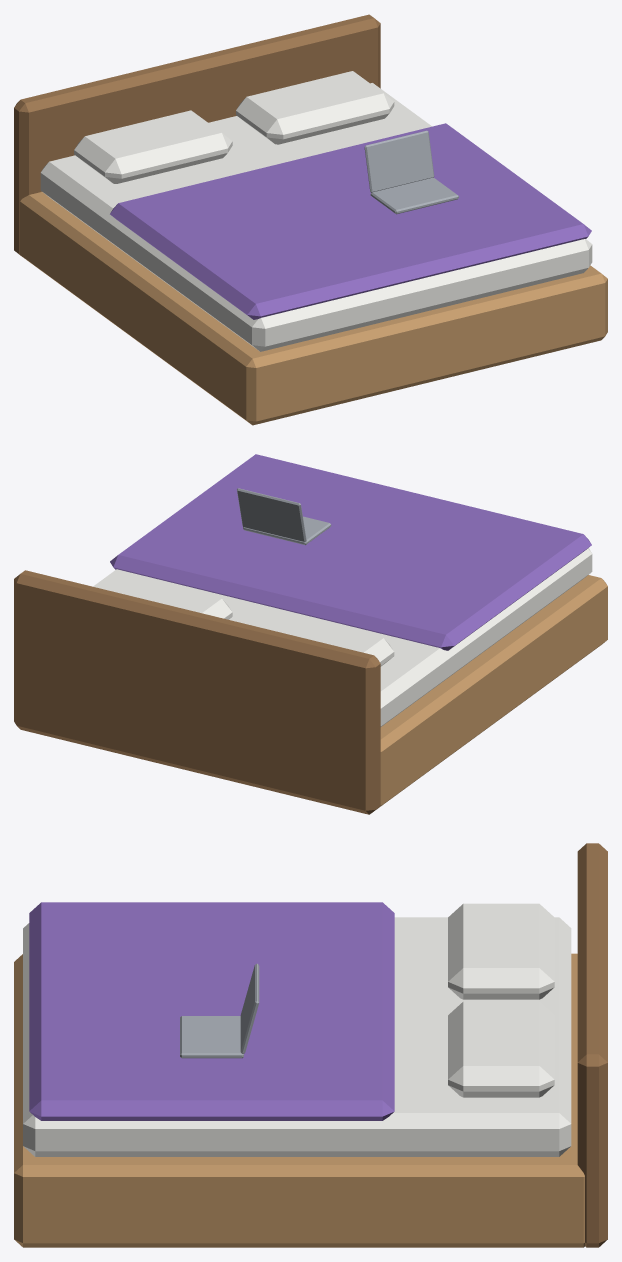
The model's file is bed.glb.
3 views of the same model, one above another, from view 1: azimuth 30°, elevation 25°; view 2: azimuth 150°, elevation 25°; view 3: azimuth 270°, elevation 25° (orthographic). The views are drawn at different scales.
Parts seen in each view (by area): view 1: bed_mesh; view 2: bed_mesh; view 3: bed_mesh.
Part boxes in pixels (left/top/right/bottom): bed_mesh: left=14, top=14, right=607, bottom=425; bed_mesh: left=14, top=454, right=607, bottom=814; bed_mesh: left=14, top=843, right=607, bottom=1247.
Bounding box in the file's own units: 1.7 × 0.7192 × 1.95.
